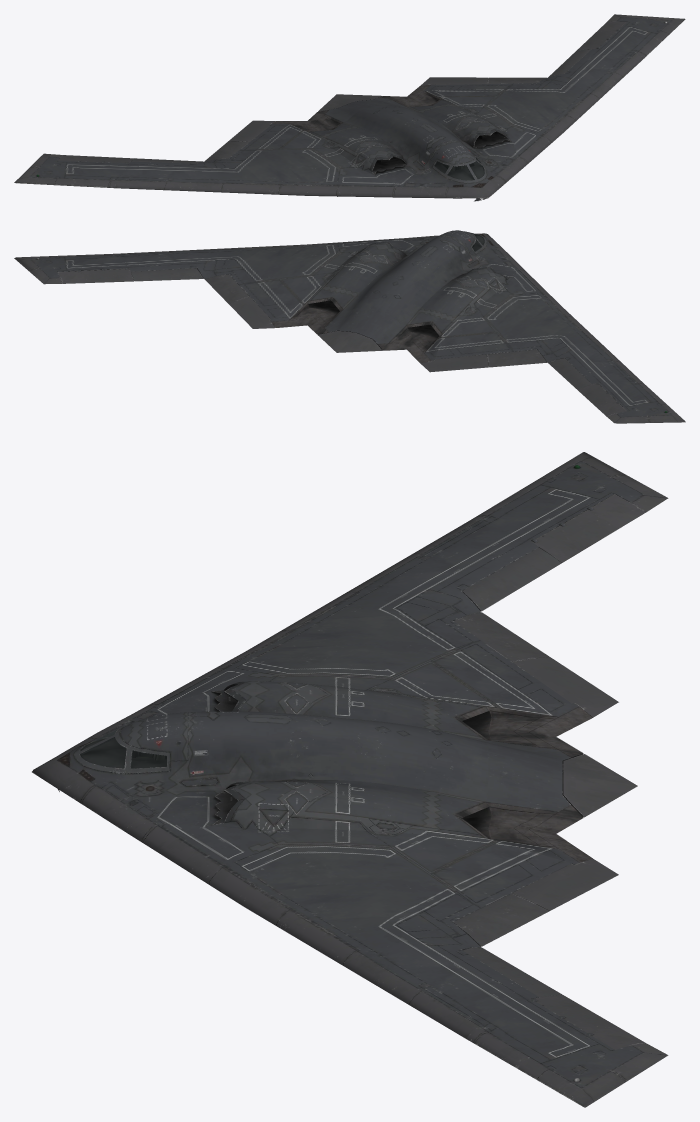
3 renders of one model, top to bottom at view 1: azimuth 30°, elevation 25°; view 2: azimuth 150°, elevation 25°; view 3: azimuth 270°, elevation 25°, orthographic. The views are drawn at different scales.
Visible parts, largest first — view 1: b2; view 2: b2; view 3: b2.
Boxes of the visible parts, bbox=[...] form: b2: bbox=[14, 14, 685, 201]; b2: bbox=[14, 230, 685, 423]; b2: bbox=[32, 452, 668, 1107].
Size of what is drawn, in the model's own units: 52.4 by 3.69 by 21.51.
Materials: 6 (5 with a texture image).
